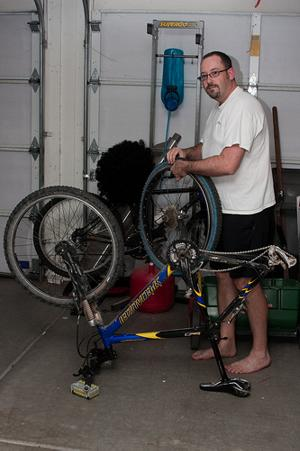person: (167, 49, 280, 375)
